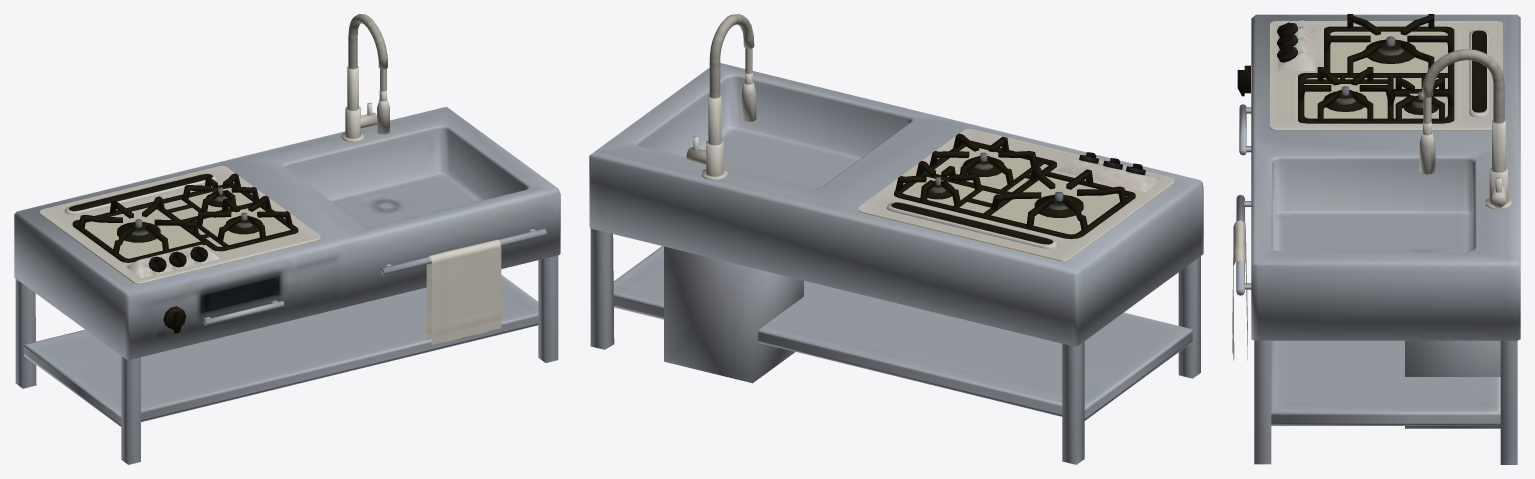
3 views of the same model, side by side, from view 1: azimuth 30°, elevation 25°; view 2: azimuth 150°, elevation 25°; view 3: azimuth 270°, elevation 25° (orthographic). The views are drawn at different scales.
Bounding box in the file's own units: 18.53 × 12.34 × 9.05.
1 material, 1 textured.
